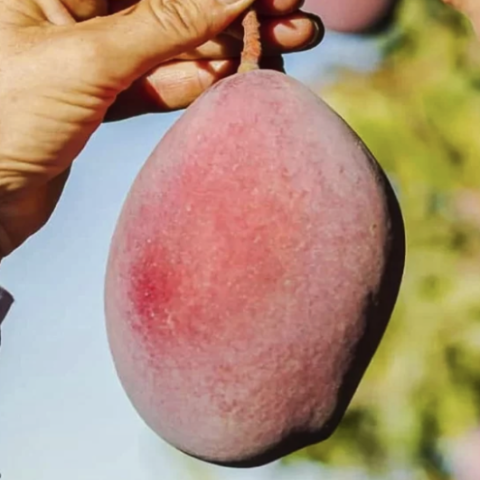mango: (79, 53, 442, 473)
